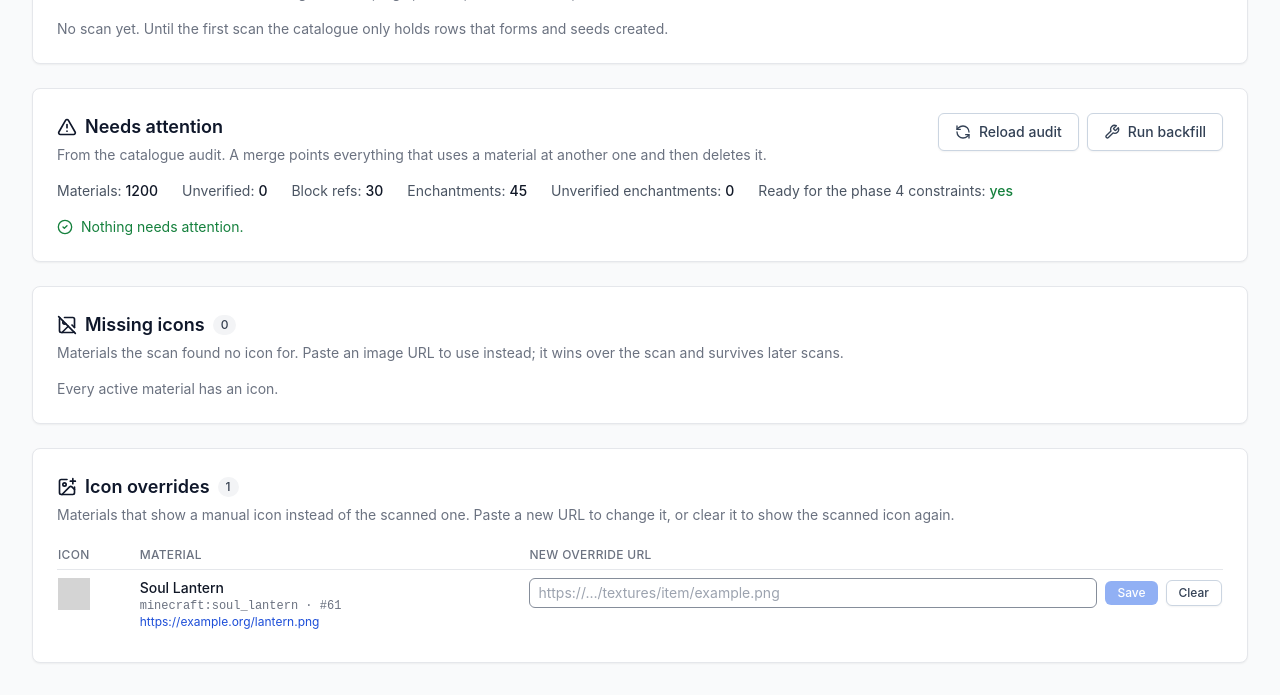
Scenario: MinecraftCatalogAdminPage - icon overrides (phase 4) › lists the overrides with their current URL and clears one, then reloads the audit
(page scrolled)
expect the link "https://example.org/lantern.png" is shown: met, box [140,614,320,629]
What coordinates should you click on to do the following:
click the button with aria-label "Clear the icon override of minecraft:soul_lantern"
I would click on:
 (1194, 593)
Its box is [1166,580,1222,606].
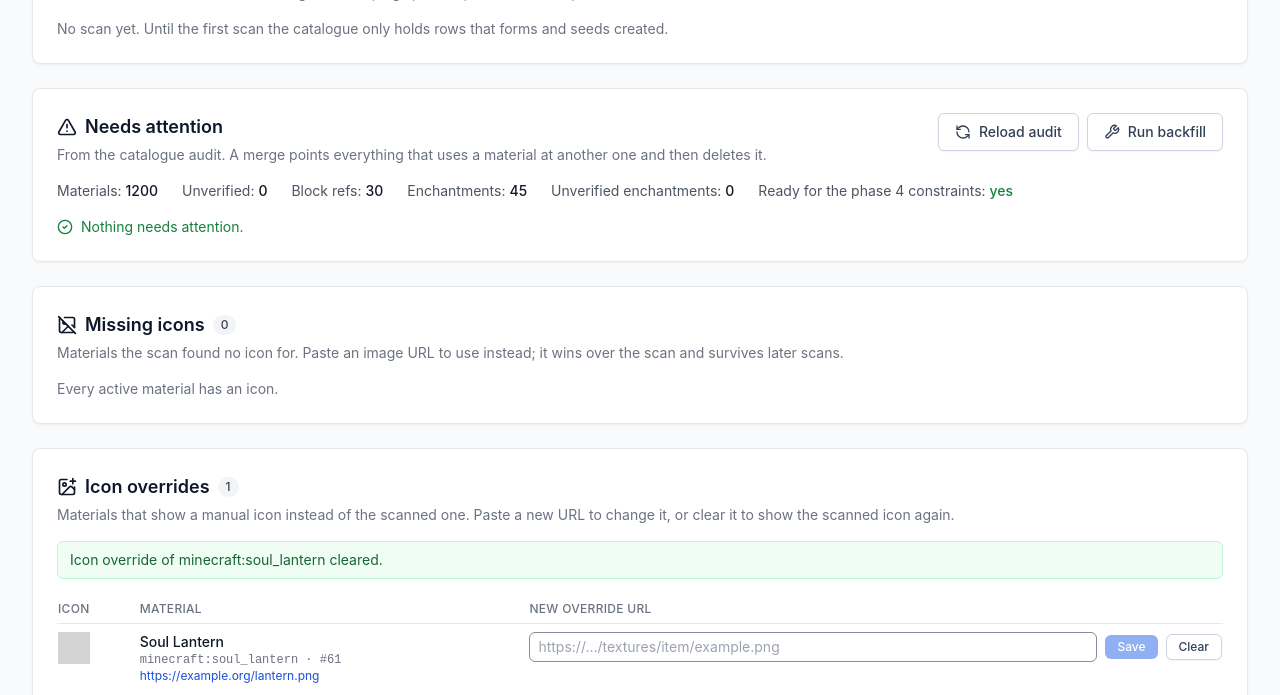
expect the text "Icon override of minecraft:soul_lantern cleared." is shown: met, box [57,541,1223,579]
